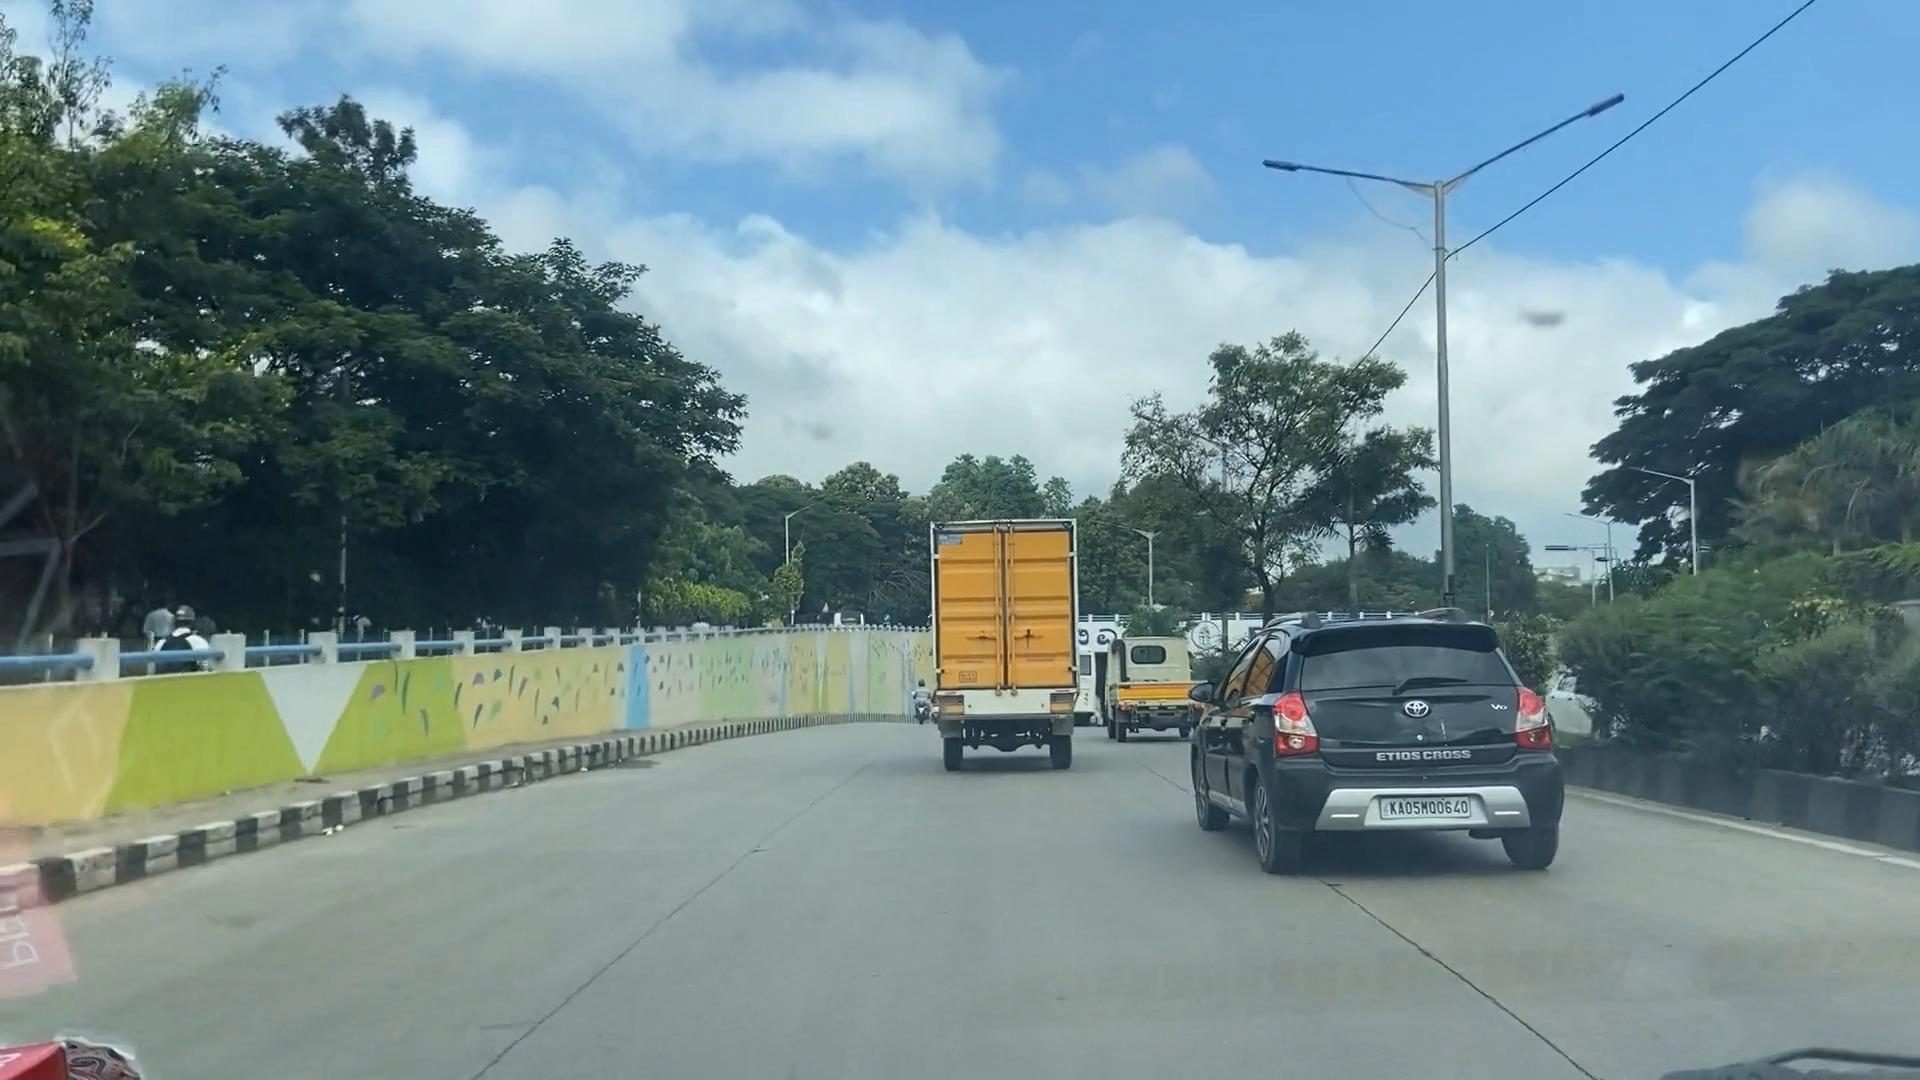HMV: (936, 527, 1076, 757)
LMV: (1183, 624, 1553, 874)
